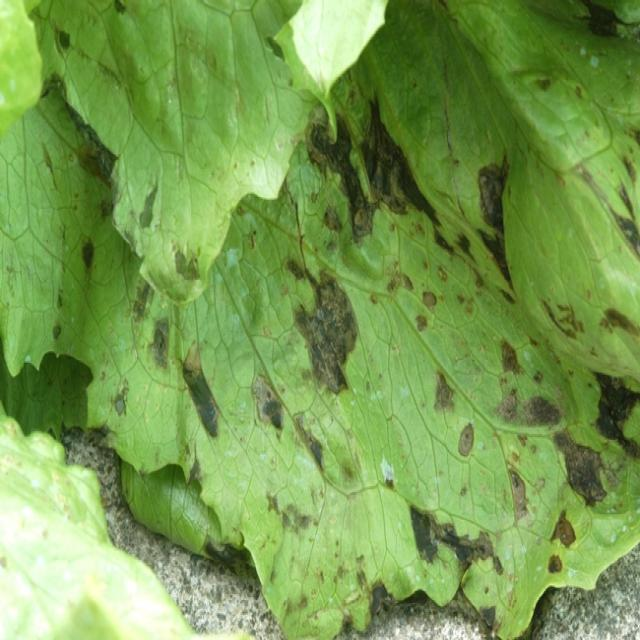Bacterial: (294, 202, 567, 555)
